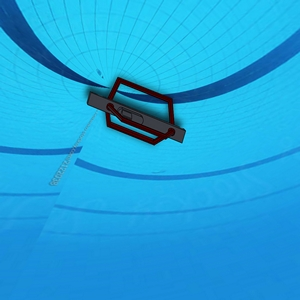submarine: (88, 78, 186, 144)
